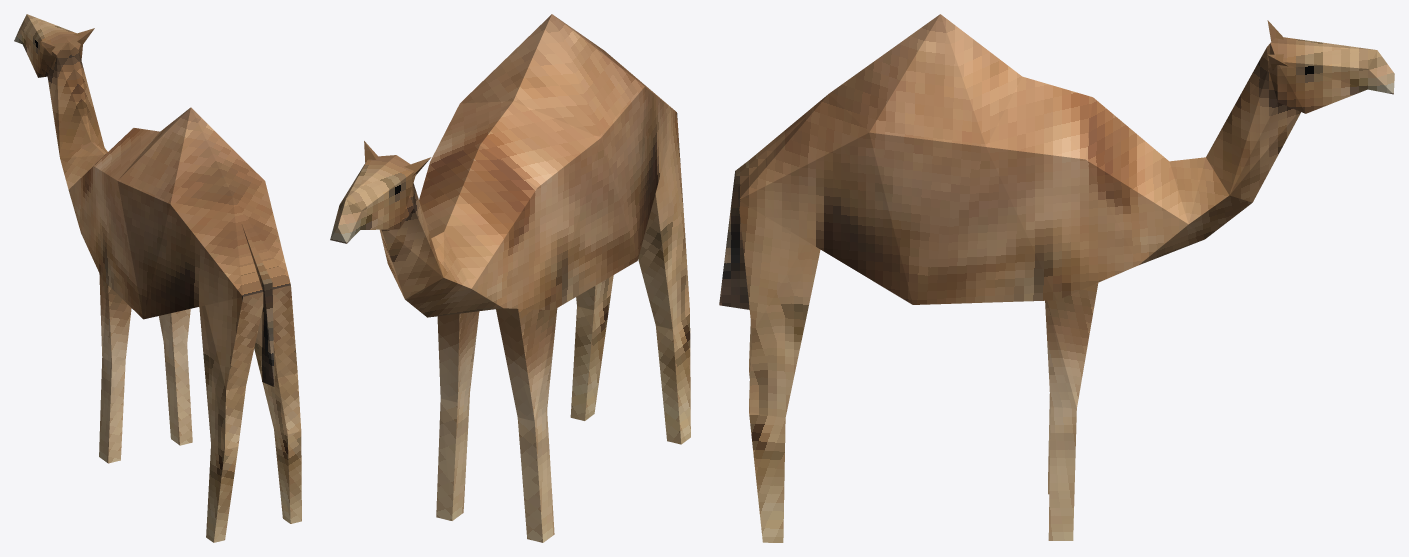
File: Camel_Camel.glb
3 renders of one model, left to right at view 1: azimuth 30°, elevation 25°; view 2: azimuth 150°, elevation 25°; view 3: azimuth 270°, elevation 25°, orthographic. The views are drawn at different scales.
Parts seen in each view (by area): view 1: Body, Leg3, Head, Leg4, Leg1, Leg2; view 2: Body, Leg3, Head, Leg1, Leg2, Leg4; view 3: Body, Leg4, Head, Leg2.
Part boxes in pixels (x1,y1,x2,y2): Body: [60, 107, 290, 386]; Leg3: [199, 292, 263, 542]; Head: [14, 14, 104, 158]; Leg4: [254, 285, 301, 523]; Leg1: [99, 273, 131, 463]; Leg2: [159, 309, 192, 445]; Body: [405, 14, 676, 317]; Leg3: [638, 113, 690, 444]; Head: [330, 141, 443, 298]; Leg1: [496, 308, 557, 542]; Leg2: [436, 311, 479, 520]; Leg4: [570, 275, 613, 420]; Body: [719, 14, 1252, 309]; Leg4: [738, 200, 820, 542]; Head: [1206, 20, 1394, 202]; Leg2: [1045, 283, 1098, 540].
Bounding box in the file's own units: 0.6462 × 2 × 2.45.
Materials: 1 (1 with a texture image).
